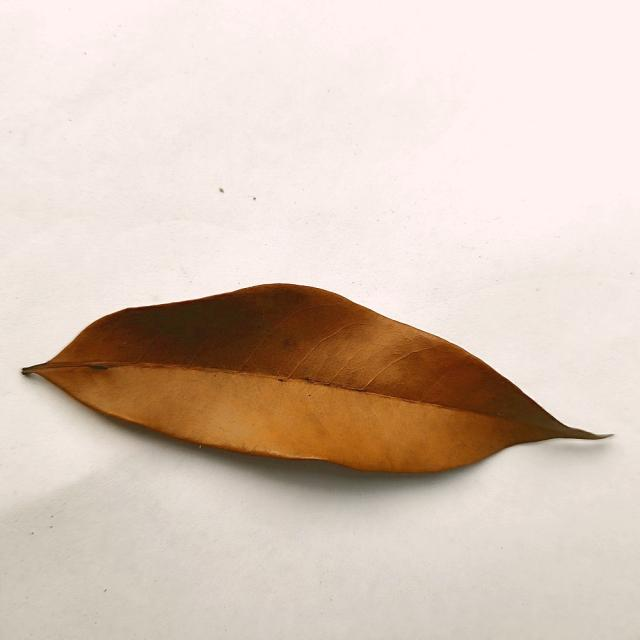Dry_Leaf-Lychee: (22, 284, 611, 477)
